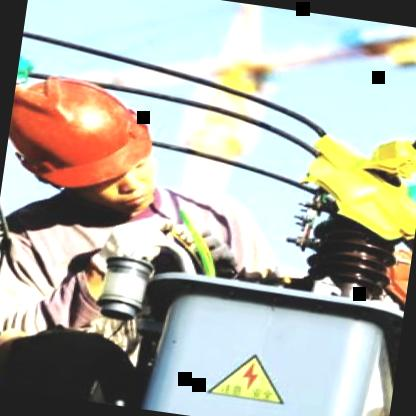helmet: (0, 61, 183, 214)
